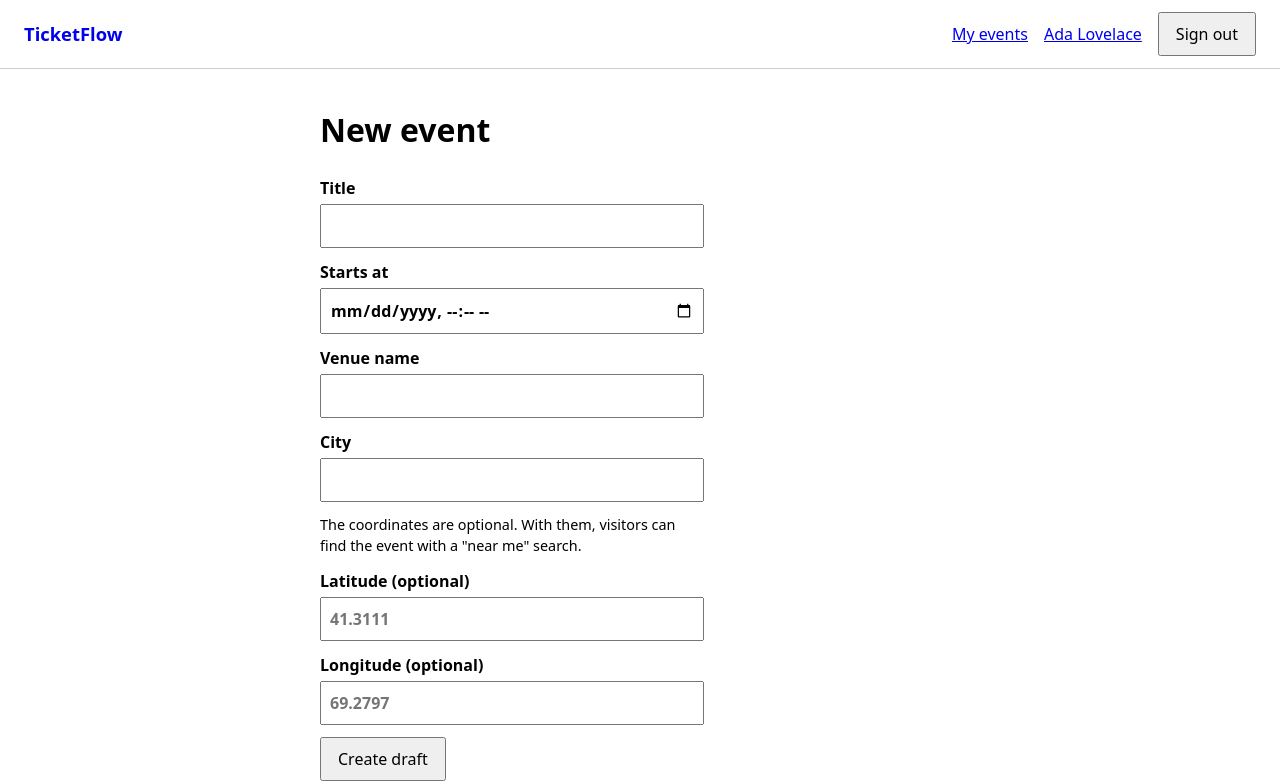
Scenario: creating an event › checks the form before it sends anything
What coordinates should you click on to do the following:
click the button "Create draft"
I would click on:
 (383, 759)
Its box is [320,737,446,781].
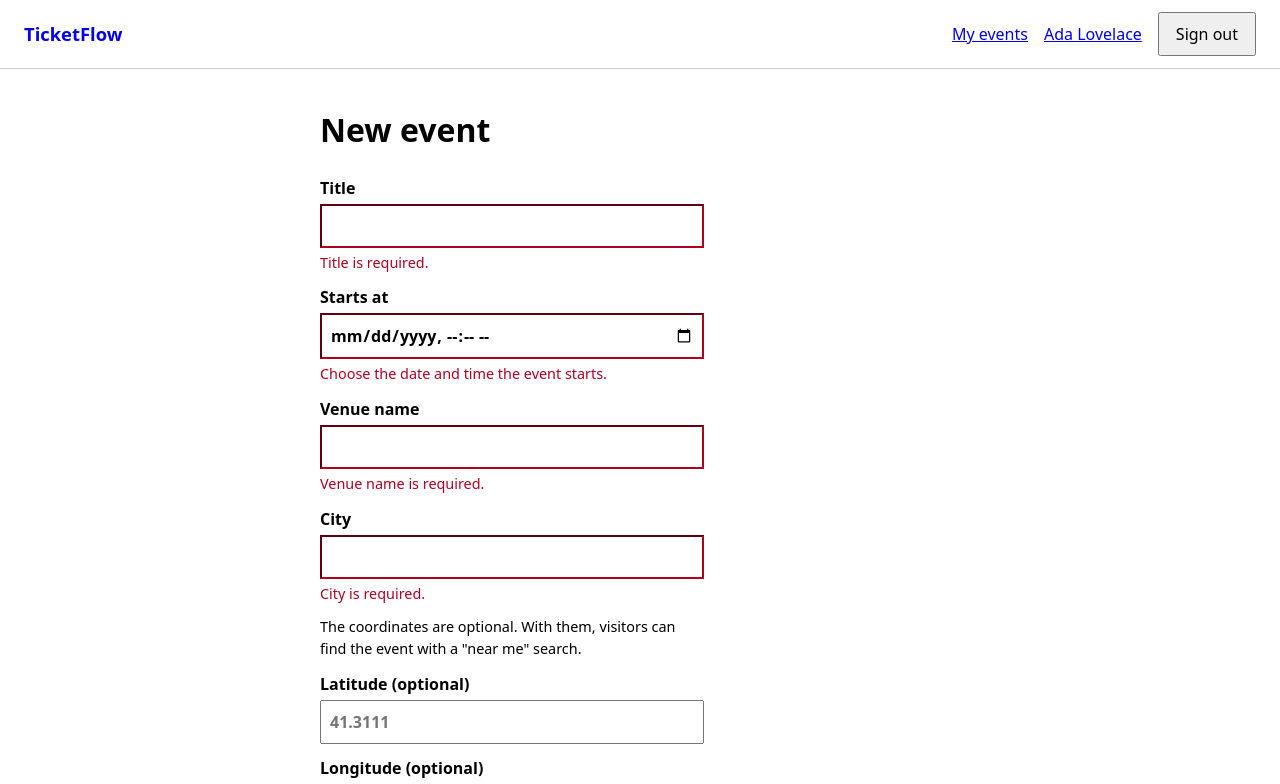
Expected: the text "Title is required." is shown, [320,253,428,272]
Expected: the text "Choose the date and time the event starts." is shown, [320,364,607,384]
